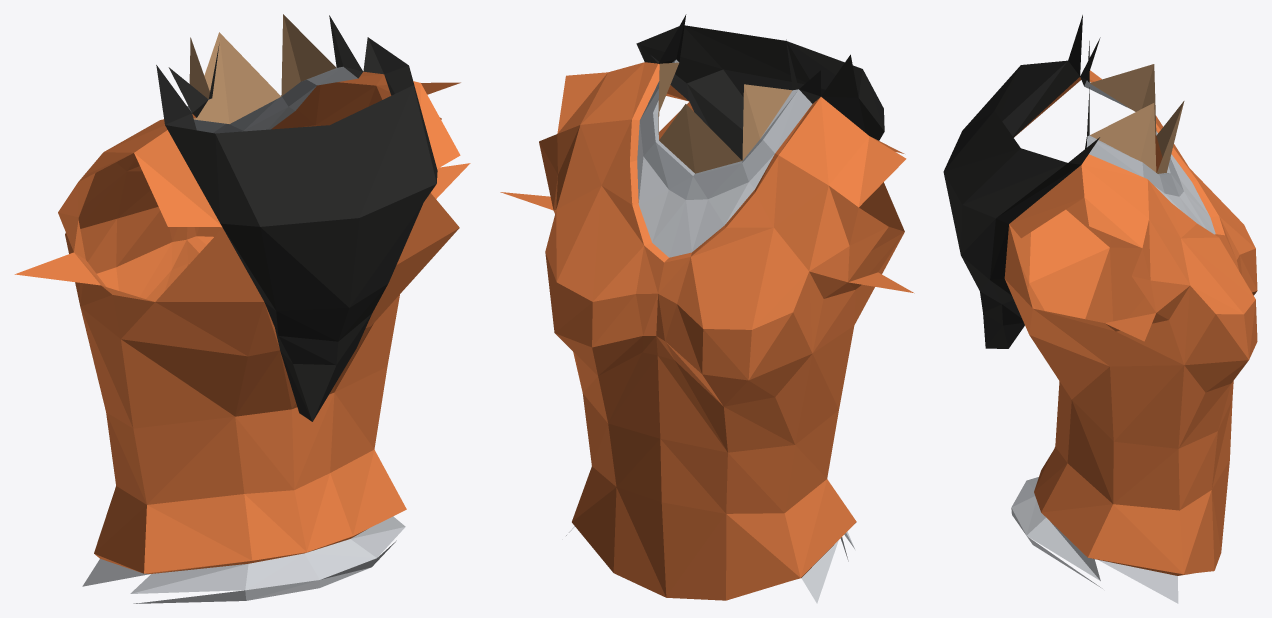
File: Daughter_01_Torso_0_04_B.obj
3 renders of one model, left to right at view 1: azimuth 30°, elevation 25°; view 2: azimuth 150°, elevation 25°; view 3: azimuth 270°, elevation 25°, orthographic. The views are drawn at different scales.
Visible parts, largest first — view 1: Daughter_01_Torso_0_04_B; view 2: Daughter_01_Torso_0_04_B; view 3: Daughter_01_Torso_0_04_B.
Part boxes in pixels (x1,y1,x2,y2): Daughter_01_Torso_0_04_B: (14,14,470,603); Daughter_01_Torso_0_04_B: (500,14,914,603); Daughter_01_Torso_0_04_B: (943,15,1257,603).
Bounding box in the file's own units: 0.5319 × 0.6365 × 0.3688.
Materials: 1 (1 with a texture image).
